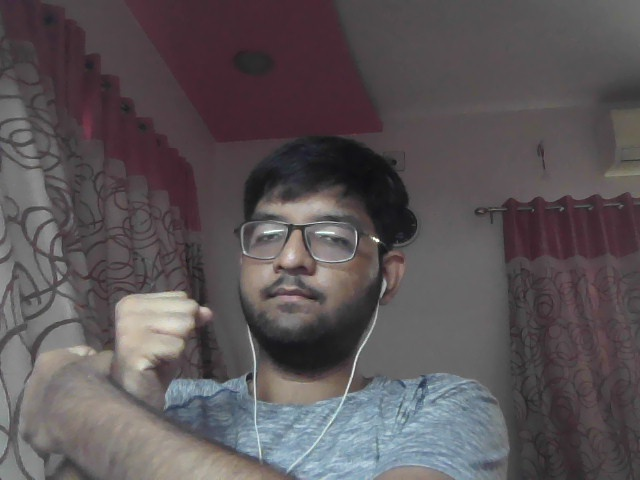પ્રેમ: (10, 285, 254, 479)
